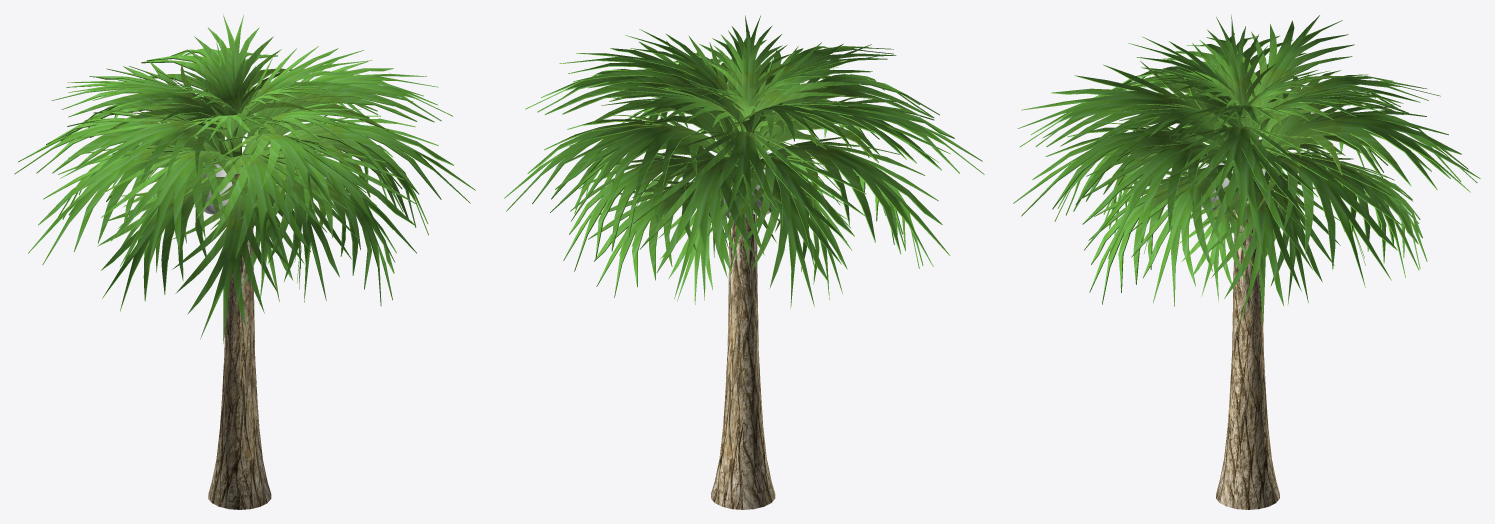
The model's file is SM_PalmTree.FBX.
The picture shows the model from 3 angles, left to right: view 1: azimuth 30°, elevation 25°; view 2: azimuth 150°, elevation 25°; view 3: azimuth 270°, elevation 25°; orthographic projection.
Visible parts, largest first — view 1: PalmTree; view 2: PalmTree; view 3: PalmTree.
Boxes of the visible parts, left/top/right/bottom form: PalmTree: left=14, top=14, right=475, bottom=509; PalmTree: left=504, top=15, right=984, bottom=509; PalmTree: left=1013, top=14, right=1480, bottom=509.
Size of the model in its own units: 77.41 by 79.32 by 76.4.
